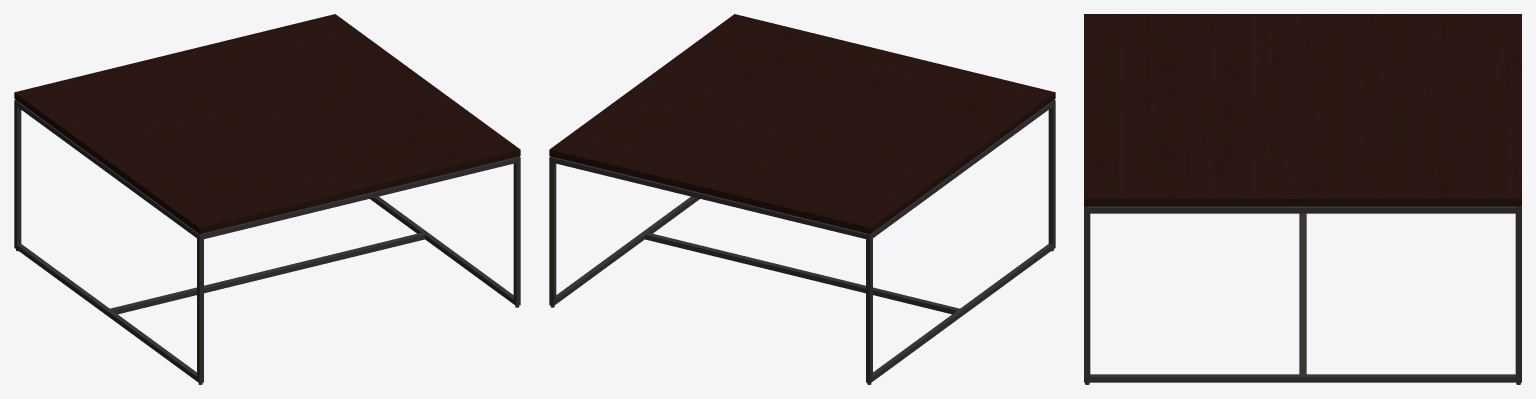
3 renders of one model, left to right at view 1: azimuth 30°, elevation 25°; view 2: azimuth 150°, elevation 25°; view 3: azimuth 270°, elevation 25°, orthographic. The views are drawn at different scales.
Visible parts, largest first — view 1: C-skp284F; view 2: C-skp284F; view 3: C-skp284F.
Boxes of the visible parts, x1,y1,x2,y2 form: C-skp284F: [14, 14, 520, 384]; C-skp284F: [549, 14, 1055, 384]; C-skp284F: [1084, 14, 1521, 384].
Size of the model in its own units: 0.81 by 0.38 by 0.81.
Materials: 2 (1 with a texture image).
